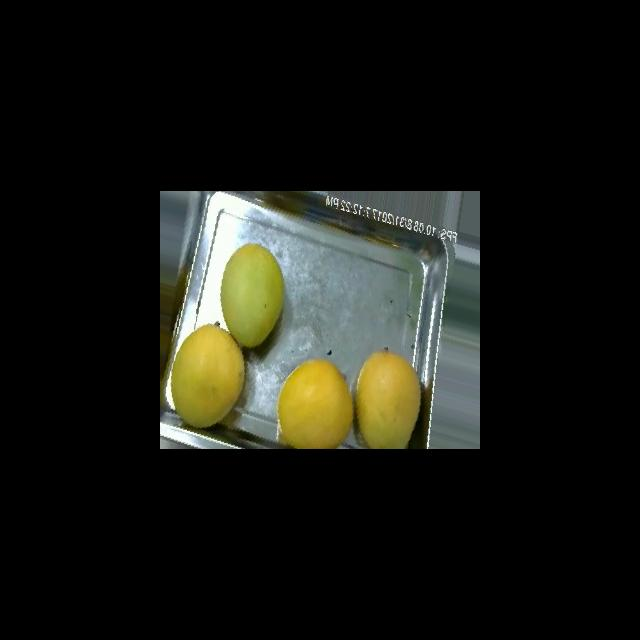mango: (170, 322, 245, 428), (276, 358, 353, 448), (219, 242, 284, 348), (354, 349, 421, 448)
